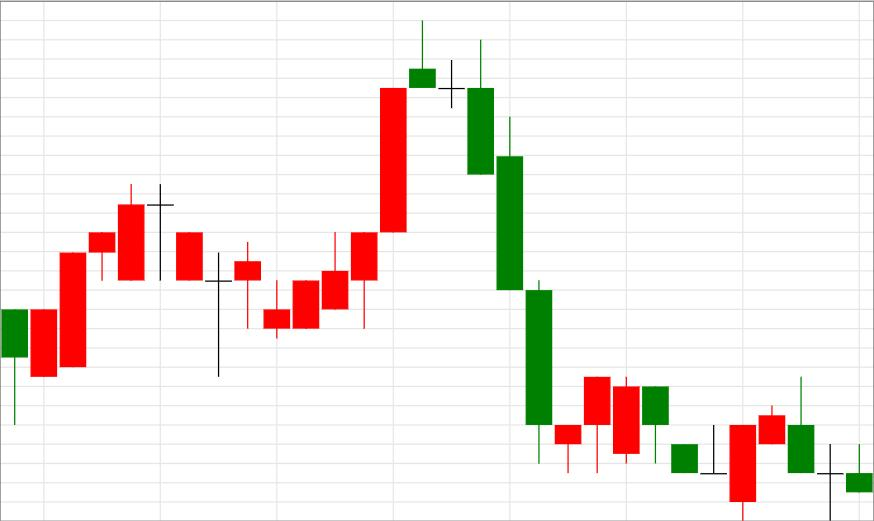three_black_crows_fall: (264, 18, 552, 465)
